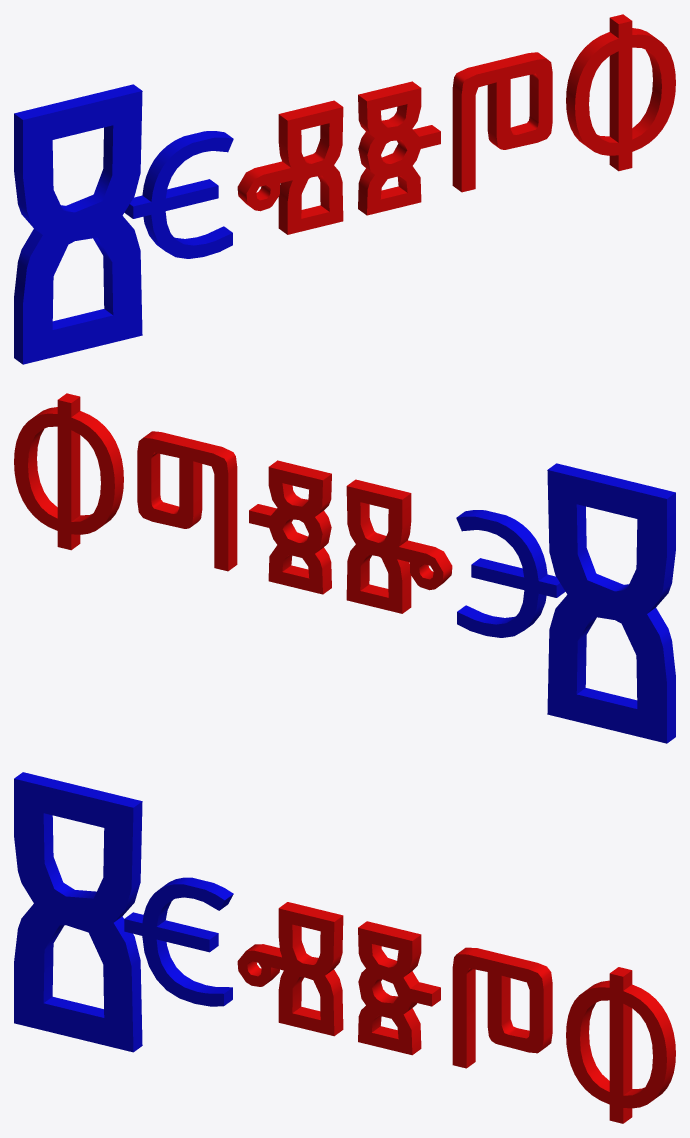
Rendered from Text_sign_10.fbx.
3 renders of one model, top to bottom at view 1: azimuth 30°, elevation 25°; view 2: azimuth 150°, elevation 25°; view 3: azimuth 330°, elevation 25°, orthographic.
Visible parts, largest first — view 1: Text_sign_10; view 2: Text_sign_10; view 3: Text_sign_10.
Boxes of the visible parts, x1,y1,x2,y2 form: Text_sign_10: (14, 14, 675, 364); Text_sign_10: (14, 393, 675, 743); Text_sign_10: (14, 772, 675, 1123).
Size of the model in its own units: 126 by 45.25 by 3.02.
